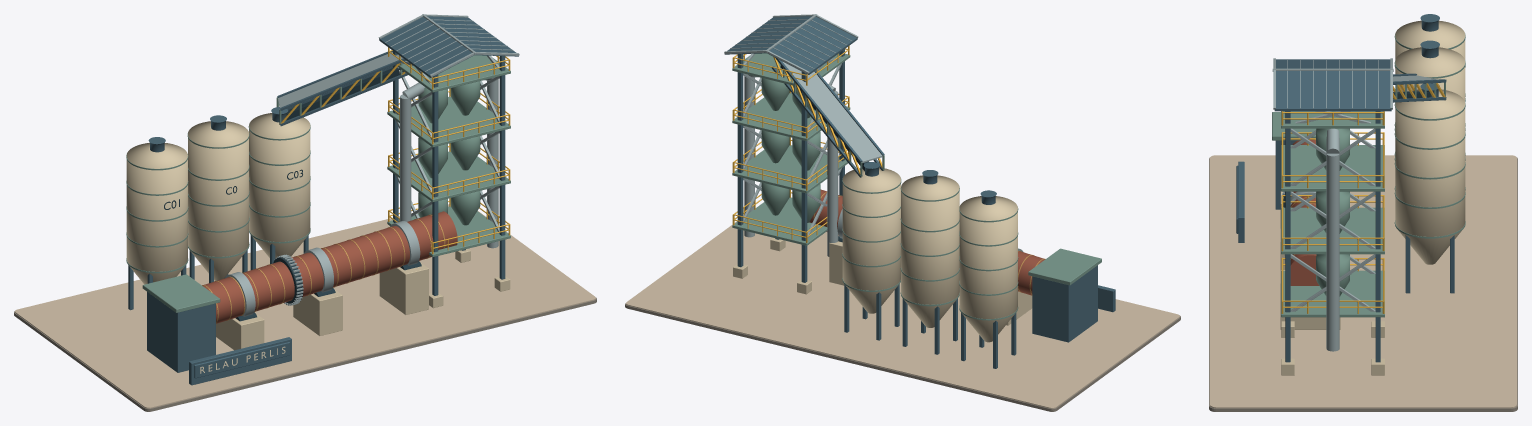
3 renders of one model, left to right at view 1: azimuth 30°, elevation 25°; view 2: azimuth 150°, elevation 25°; view 3: azimuth 270°, elevation 25°, orthographic. The views are drawn at different scales.
Parts seen in each view (by area): view 1: Works Apron, Cement Silos, Preheater Tower, Rotary Kiln, Elevated Conveyor; view 2: Works Apron, Cement Silos, Preheater Tower, Rotary Kiln, Elevated Conveyor; view 3: Works Apron, Preheater Tower, Cement Silos, Rotary Kiln, Elevated Conveyor.
Part boxes in pixels (left/top/right/bottom): Works Apron: left=14, top=204, right=596, bottom=411; Cement Silos: left=126, top=107, right=310, bottom=310; Preheater Tower: left=378, top=14, right=519, bottom=308; Rotary Kiln: left=142, top=211, right=457, bottom=372; Elevated Conveyor: left=276, top=51, right=407, bottom=126; Works Apron: left=625, top=221, right=1180, bottom=411; Cement Silos: left=842, top=162, right=1018, bottom=368; Preheater Tower: left=724, top=14, right=858, bottom=294; Rotary Kiln: left=809, top=189, right=1101, bottom=342; Elevated Conveyor: left=772, top=57, right=884, bottom=177; Works Apron: left=1209, top=155, right=1517, bottom=411; Preheater Tower: left=1272, top=58, right=1393, bottom=375; Cement Silos: left=1394, top=14, right=1465, bottom=293; Rotary Kiln: left=1272, top=112, right=1340, bottom=329; Elevated Conveyor: left=1393, top=73, right=1446, bottom=102.
Size of the model in its own units: 37 by 19.76 by 19.1.
